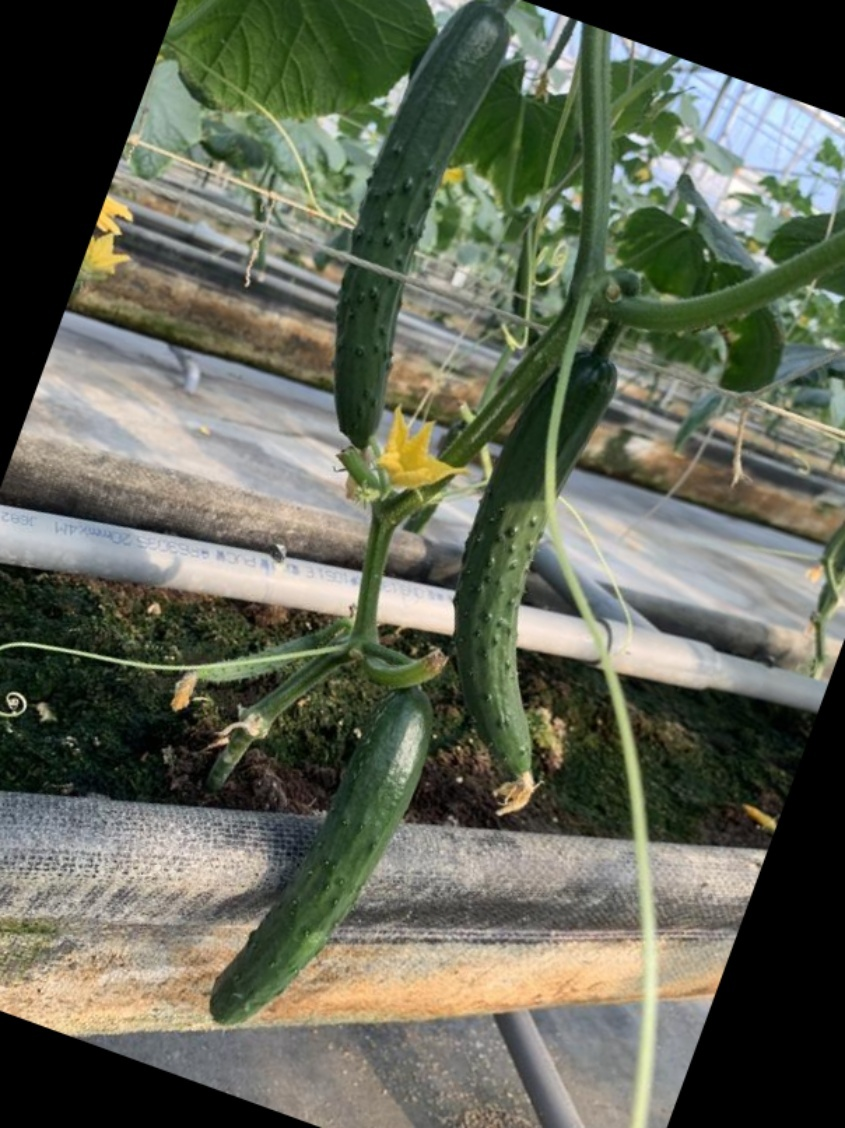mature: (323, 3, 526, 451)
